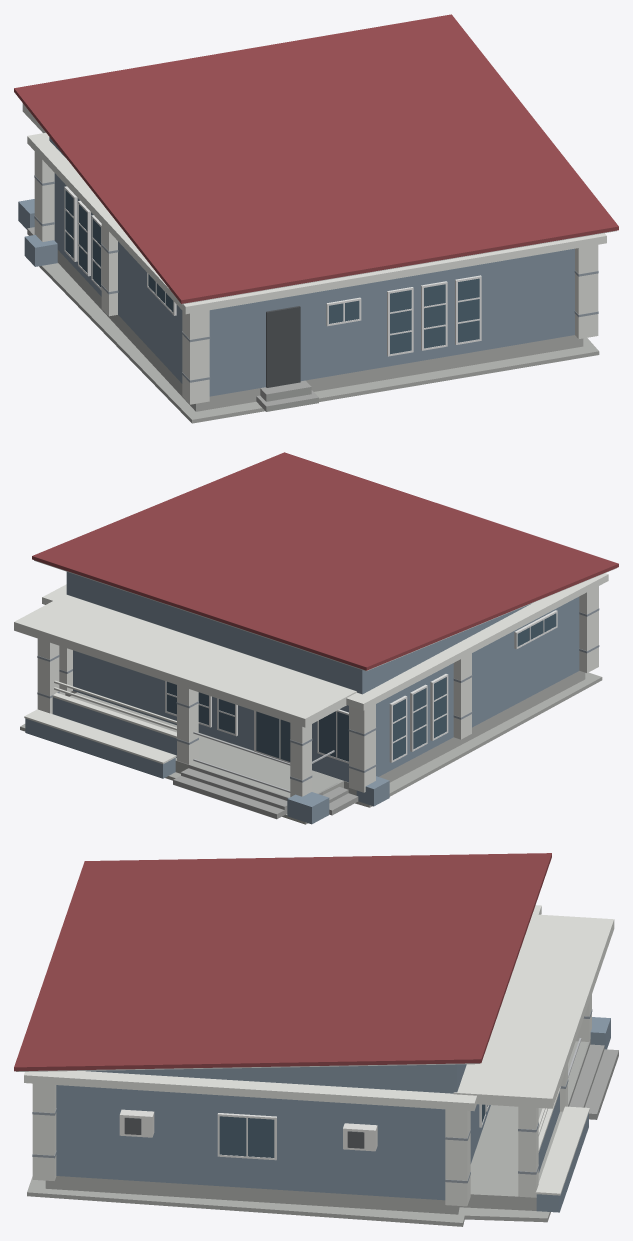
Rendered from rares_staff_house_a.glb.
The picture shows the model from 3 angles, top to bottom: view 1: azimuth 30°, elevation 25°; view 2: azimuth 150°, elevation 25°; view 3: azimuth 270°, elevation 25°; orthographic projection. The views are drawn at different scales.
Parts seen in each view (by area): view 1: Roof_Maroon_Deck, Main_Body_Walls, Main_Concrete_Eave, Apron_Walkway, Plinth_Footprint, South_Exit_Door, Pilaster_SW, Pilaster_SE, Pilaster_NW, Pilaster_W_Mid, South_TallWin_2_glass, South_TallWin_1_glass (+6 smaller); view 2: Roof_Maroon_Deck, Porch_Concrete_Canopy, Main_Body_Walls, Roof_Clerestory_Infill, Plinth_Footprint, Main_Concrete_Eave, Apron_Walkway, Planter_East_Front, Porch_East_Parapet, Pilaster_NW, Planter_East_Rim, Porch_Col_1 (+17 smaller); view 3: Roof_Maroon_Deck, Main_Body_Walls, Porch_Concrete_Canopy, Plinth_Footprint, Main_Concrete_Eave, Apron_Walkway, Roof_Clerestory_Infill, Pilaster_NE, Planter_East_Rim, Pilaster_SE, East_Mid_Win_glass, Porch_Col_2 (+7 smaller).
Part boxes in pixels (bbox=[...]): Roof_Maroon_Deck: bbox=[14, 14, 618, 303]; Main_Body_Walls: bbox=[54, 173, 574, 396]; Main_Concrete_Eave: bbox=[27, 132, 606, 314]; Apron_Walkway: bbox=[39, 263, 599, 423]; Plinth_Footprint: bbox=[57, 250, 583, 411]; South_Exit_Door: bbox=[266, 306, 300, 387]; Pilaster_SW: bbox=[182, 310, 209, 404]; Pilaster_SE: bbox=[575, 245, 598, 338]; Pilaster_NW: bbox=[34, 151, 54, 241]; Pilaster_W_Mid: bbox=[101, 224, 117, 316]; South_TallWin_2_glass: bbox=[458, 278, 479, 342]; South_TallWin_1_glass: bbox=[424, 284, 445, 348]; Roof_Maroon_Deck: bbox=[32, 452, 618, 670]; Porch_Concrete_Canopy: bbox=[14, 594, 356, 727]; Main_Body_Walls: bbox=[73, 597, 579, 782]; Roof_Clerestory_Infill: bbox=[66, 572, 531, 694]; Plinth_Footprint: bbox=[65, 671, 585, 797]; Main_Concrete_Eave: bbox=[42, 573, 608, 710]; Apron_Walkway: bbox=[20, 672, 602, 824]; Planter_East_Front: bbox=[25, 718, 175, 778]; Porch_East_Parapet: bbox=[52, 697, 176, 757]; Pilaster_NW: bbox=[349, 704, 375, 792]; Planter_East_Rim: bbox=[24, 709, 176, 764]; Porch_Col_1: bbox=[177, 685, 198, 764]; Roof_Maroon_Deck: bbox=[14, 853, 551, 1071]; Main_Body_Walls: bbox=[56, 1085, 490, 1200]; Porch_Concrete_Canopy: bbox=[453, 914, 614, 1108]; Plinth_Footprint: bbox=[45, 1039, 590, 1214]; Main_Concrete_Eave: bbox=[24, 905, 541, 1111]; Apron_Walkway: bbox=[27, 1176, 550, 1226]; Roof_Clerestory_Infill: bbox=[86, 1064, 466, 1093]; Pilaster_NE: bbox=[445, 1109, 470, 1206]; Planter_East_Rim: bbox=[535, 1106, 589, 1195]; Pilaster_SE: bbox=[32, 1083, 56, 1180]; East_Mid_Win_glass: bbox=[219, 1116, 274, 1157]; Porch_Col_2: bbox=[518, 1106, 538, 1197].
Bounding box in the file's own units: 13.06 × 4.47 × 14.22.
